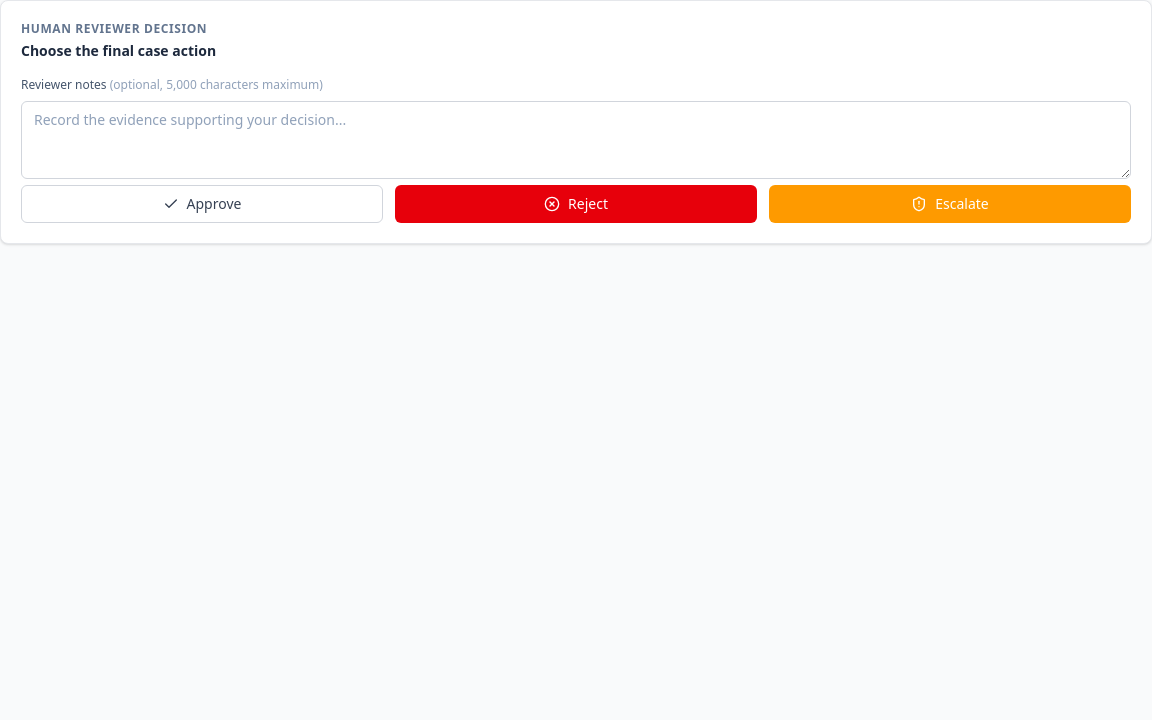
Test: ReviewActionPanel › can cancel confirmation without submitting
The image size is (1152, 720).
Click the button "Escalate".
click(950, 204)  # box [769,185,1131,223]
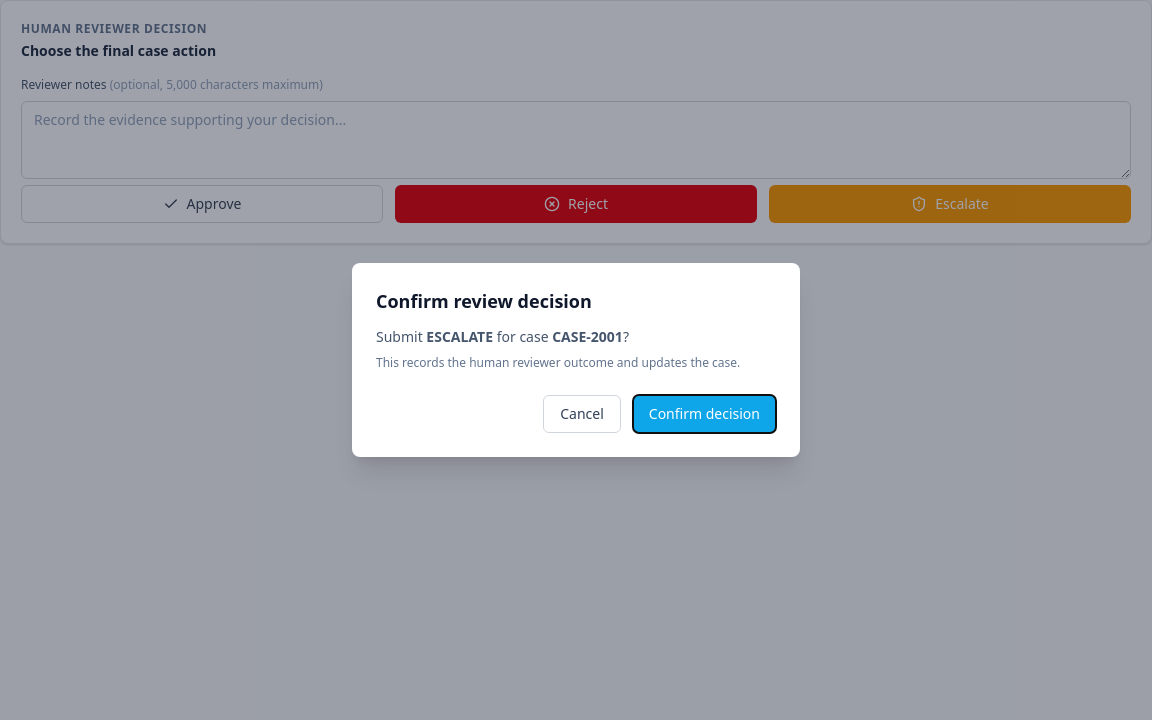
Click the button "Cancel".
click(582, 414)  # box [543,395,621,433]
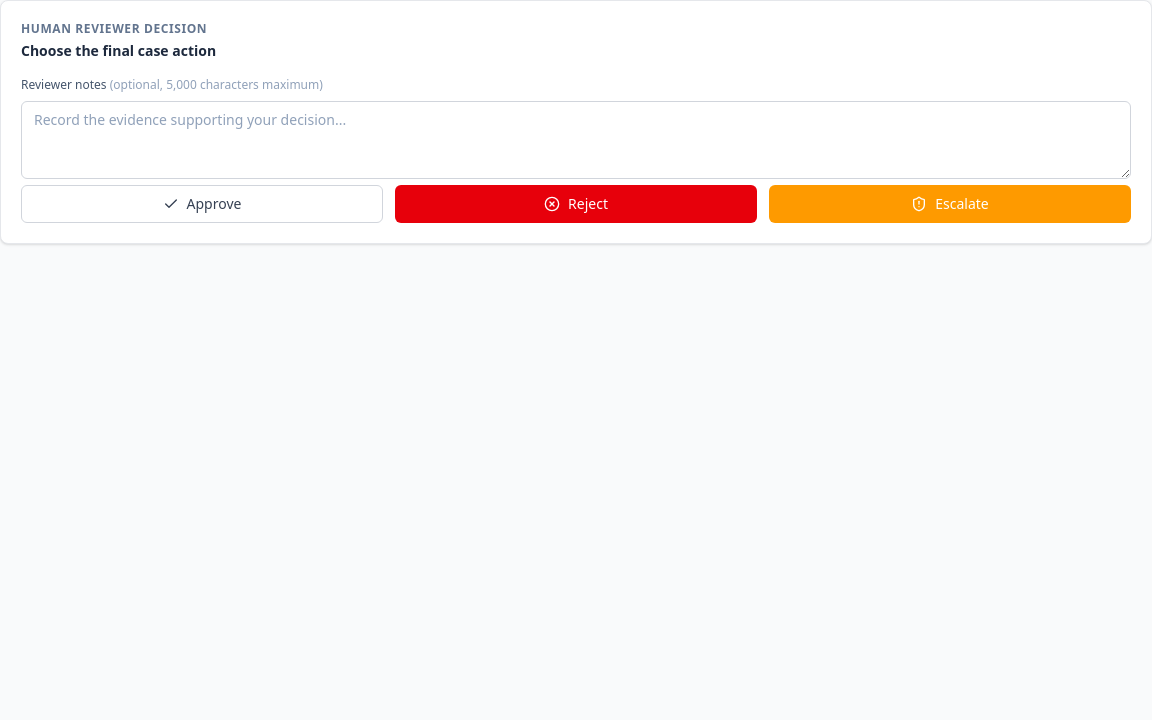
Expected: the dialog is gone
